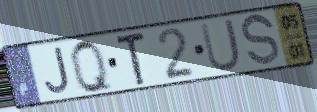2: (156, 26, 198, 82)
J: (43, 45, 72, 97)
Q: (68, 38, 117, 96)
S: (240, 12, 282, 70)
T: (115, 29, 148, 88)
U: (198, 16, 244, 74)
